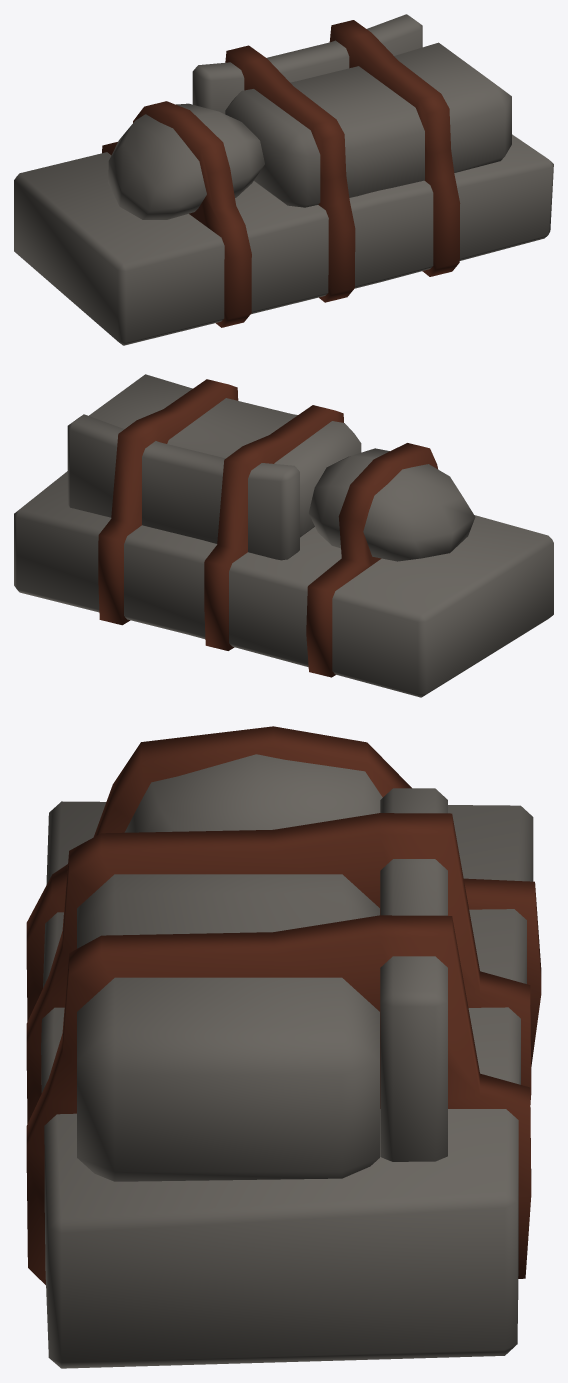
File: stoneStock.glb
3 renders of one model, top to bottom at view 1: azimuth 30°, elevation 25°; view 2: azimuth 150°, elevation 25°; view 3: azimuth 270°, elevation 25°, orthographic. The views are drawn at different scales.
Visible parts, largest first — view 1: Cube, Cube.001, Cube.002, Cube.005, Cube.004, Cube.006, Cube.003; view 2: Cube, Cube.003, Cube.002, Cube.001, Cube.005, Cube.004, Cube.006; view 3: Cube, Cube.001, Cube.005, Cube.004, Cube.003, Cube.006, Cube.002.
Part boxes in pixels (x1,y1,x2,y2): Cube: (14, 134, 553, 345); Cube.001: (225, 42, 511, 207); Cube.002: (108, 103, 264, 219); Cube.005: (329, 20, 460, 276); Cube.004: (225, 45, 355, 302); Cube.006: (102, 101, 251, 327); Cube.003: (192, 14, 422, 113); Cube: (14, 471, 553, 697); Cube.003: (67, 414, 299, 560); Cube.002: (309, 448, 475, 561); Cube.001: (89, 374, 361, 537); Cube.005: (98, 379, 238, 625); Cube.004: (204, 405, 343, 650); Cube.006: (306, 443, 438, 677); Cube: (41, 801, 533, 1368); Cube.001: (77, 874, 379, 1181); Cube.005: (26, 915, 531, 1284); Cube.004: (26, 813, 531, 1123); Cube.003: (380, 788, 447, 1161); Cube.006: (26, 726, 541, 1066); Cube.002: (124, 754, 382, 832).
Size of the model in its own units: 0.8017 by 0.316 by 0.4098.
